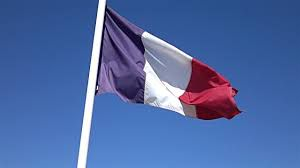French Flag: (98, 5, 243, 121)
